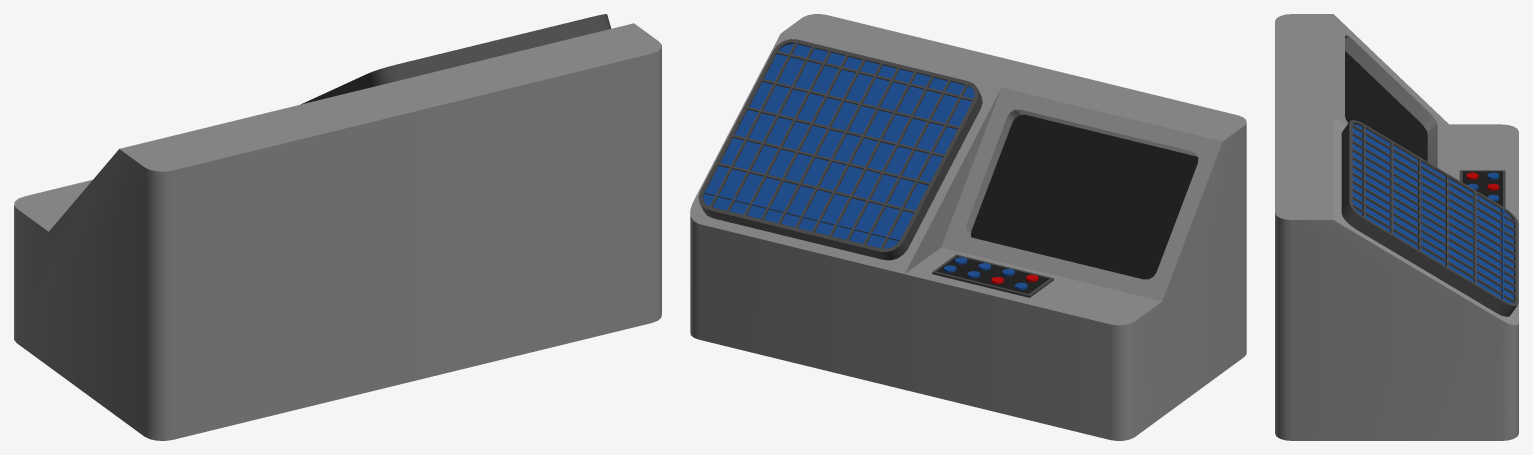
Rendered from SolarSystem.fbx.
The picture shows the model from 3 angles, left to right: view 1: azimuth 30°, elevation 25°; view 2: azimuth 150°, elevation 25°; view 3: azimuth 270°, elevation 25°; orthographic projection. The views are drawn at different scales.
Parts seen in each view (by area): view 1: SolarSystem; view 2: SolarSystem; view 3: SolarSystem.
Part boxes in pixels (box(x1,y1,x2,y2)): SolarSystem: box(14, 14, 661, 440); SolarSystem: box(690, 14, 1246, 440); SolarSystem: box(1275, 14, 1518, 440).
Size of the model in its own units: 200 by 103 by 100.
